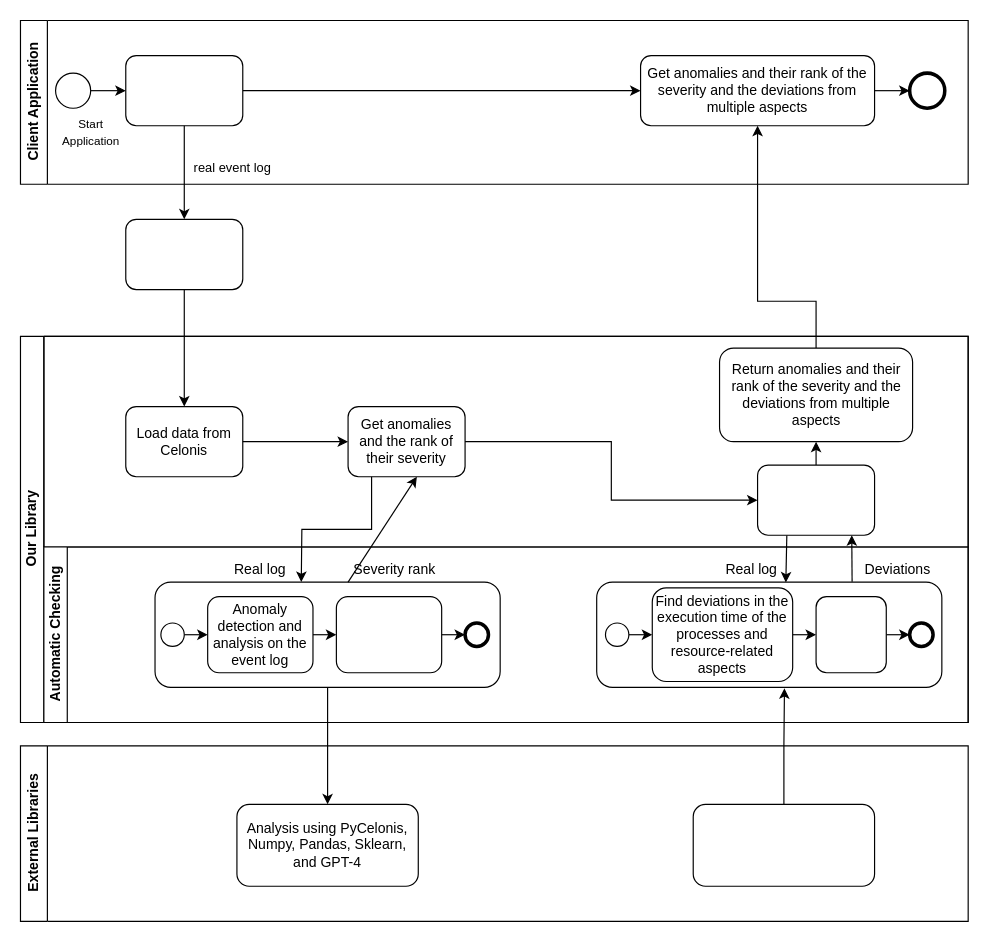
The diagram is 989 pixels wide and 942 high, and some of its shapes have lost their labels. The centre of each missing label's shape, as x and y in pixels:
"Analysis using PyCelonis, Celonis" goes at pixel 783 844.
"Get the deviations from resource-based and temporal aspects" goes at pixel 815 499.
"Input: a real-life log" goes at pixel 184 90.
"Return anomalies and the rank of their severity" goes at pixel 388 634.
"Return deviations" goes at pixel 850 634.
"Upload the data to Celonis" goes at pixel 184 254.
